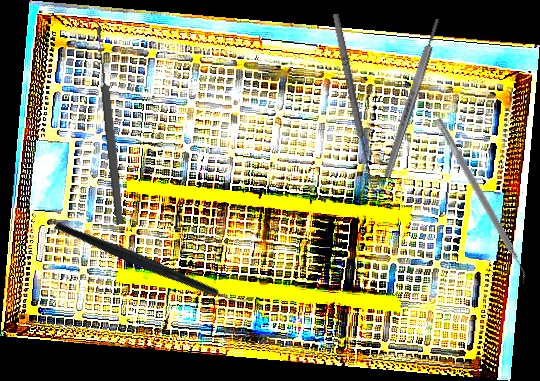Chopper: (53, 164, 256, 361)
Hook Surgical: (329, 11, 385, 194)
Scalpel Handle: (381, 17, 443, 179)
Spatula Surgical: (428, 117, 534, 286)
Surgical Spoon: (93, 25, 126, 226)
